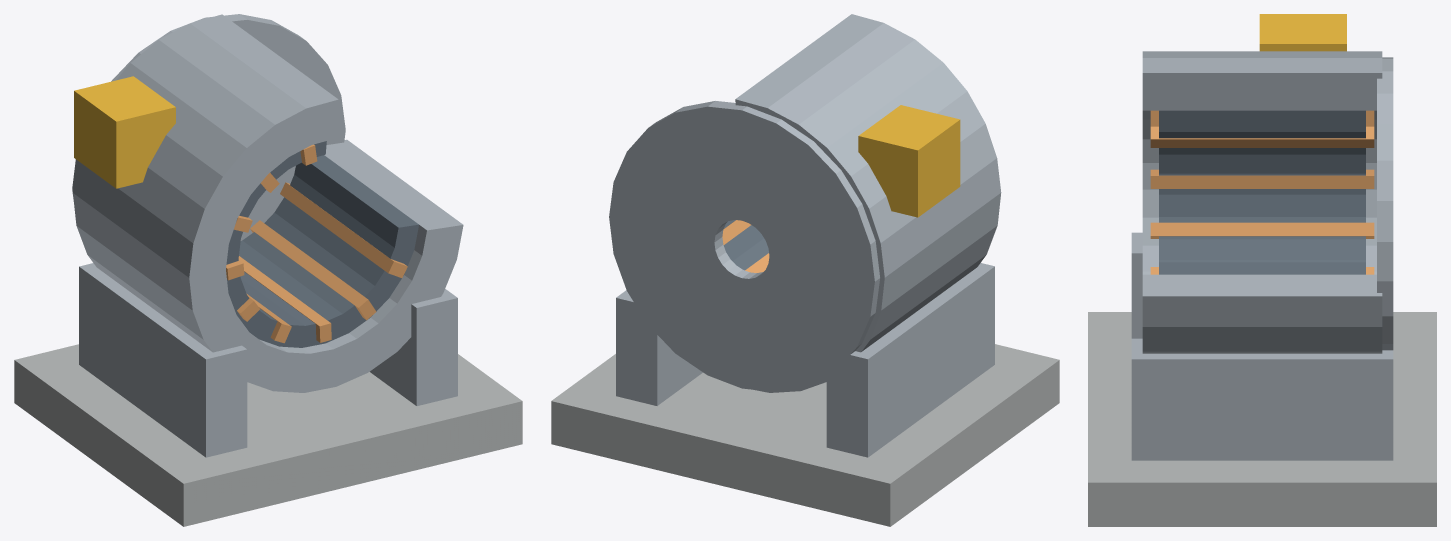
Rendered from ENERGY-022.glb.
3 views of the same model, side by side, from view 1: azimuth 30°, elevation 25°; view 2: azimuth 150°, elevation 25°; view 3: azimuth 270°, elevation 25° (orthographic). The views are drawn at different scales.
Parts seen in each view (by area): view 1: ENERGY-022; view 2: ENERGY-022; view 3: ENERGY-022.
Boxes of the visible parts, x1,y1,x2,y2 form: ENERGY-022: (14, 14, 522, 526); ENERGY-022: (551, 14, 1059, 526); ENERGY-022: (1088, 14, 1436, 526).
Size of the model in its own units: 1.48 by 1.52 by 1.28.
